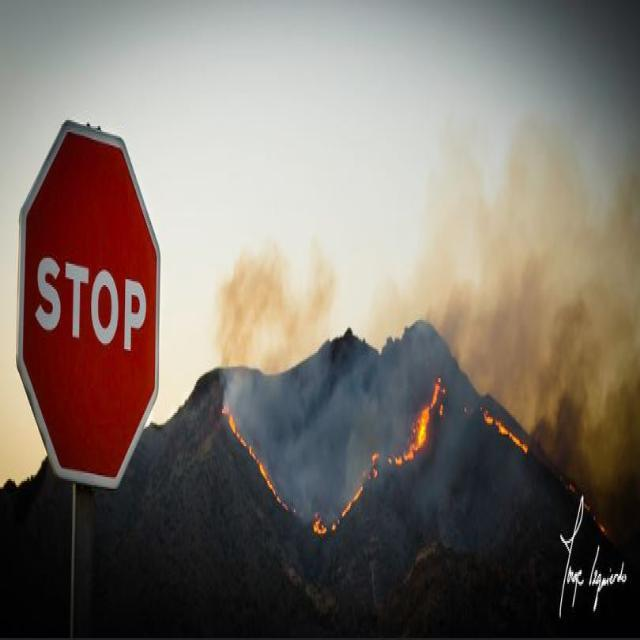Fire: (216, 394, 290, 520), (314, 446, 378, 539), (392, 376, 444, 469), (476, 405, 527, 458)
Smoke: (217, 238, 335, 372), (474, 255, 540, 400), (530, 390, 592, 494), (313, 364, 379, 438), (438, 280, 469, 374), (290, 451, 314, 524), (344, 431, 368, 489), (226, 368, 254, 400)
